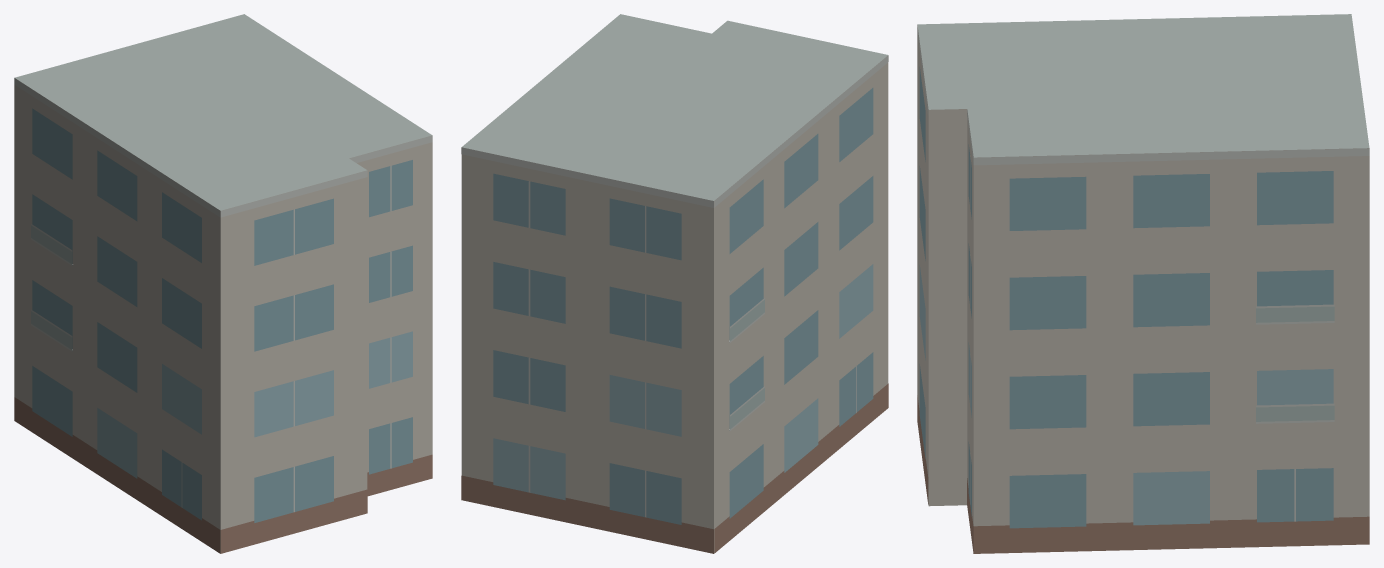
Rendered from residential-5502ab90-5de9-44a8-8d64-96a5f8e4dc18.glb.
The picture shows the model from 3 angles, left to right: view 1: azimuth 30°, elevation 25°; view 2: azimuth 150°, elevation 25°; view 3: azimuth 270°, elevation 25°; orthographic projection. The views are drawn at different scales.
Parts seen in each view (by area): view 1: residential-5502ab90-5de9-44a8-8d64-96a5f8e4dc18.tmp; view 2: residential-5502ab90-5de9-44a8-8d64-96a5f8e4dc18.tmp; view 3: residential-5502ab90-5de9-44a8-8d64-96a5f8e4dc18.tmp.
Boxes of the visible parts, <box> form: residential-5502ab90-5de9-44a8-8d64-96a5f8e4dc18.tmp: <box>14,14,432,553</box>; residential-5502ab90-5de9-44a8-8d64-96a5f8e4dc18.tmp: <box>461,14,888,553</box>; residential-5502ab90-5de9-44a8-8d64-96a5f8e4dc18.tmp: <box>917,14,1369,553</box>.
Bounding box in the file's own units: 9.48 × 12.2 × 12.62.
